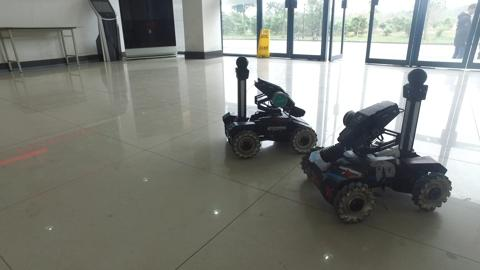chariot: (293, 65, 459, 226), (220, 55, 316, 156)
